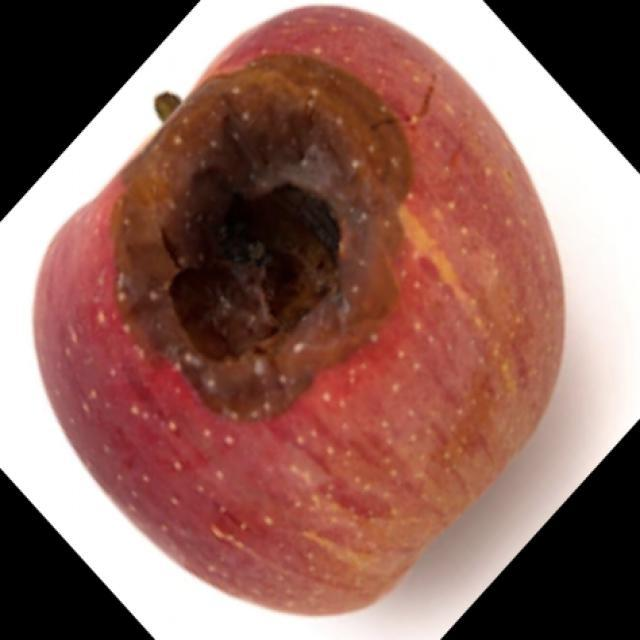Rotten: (35, 19, 547, 598)
